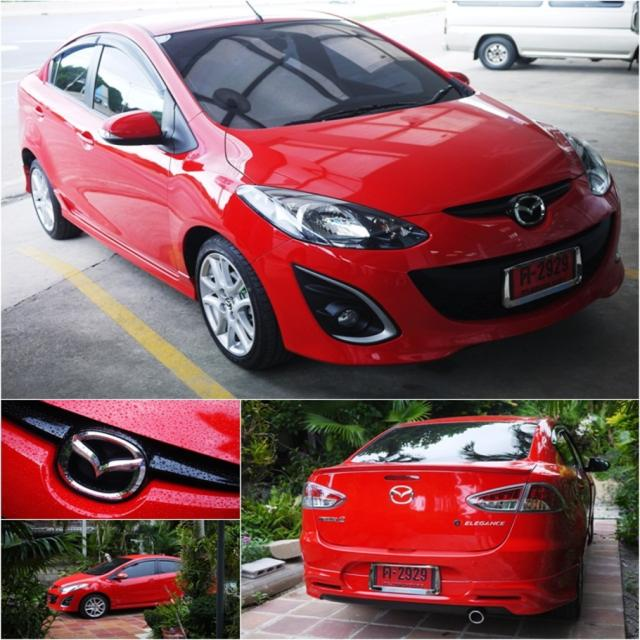Car: (19, 10, 626, 368), (299, 418, 608, 621)
